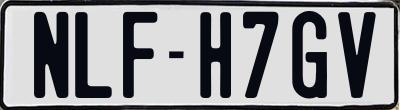7: (241, 11, 278, 102)
F: (120, 12, 156, 101)
G: (292, 10, 329, 99)
H: (199, 11, 236, 97)
L: (75, 10, 117, 102)
N: (34, 12, 69, 103)
V: (338, 11, 379, 99)
